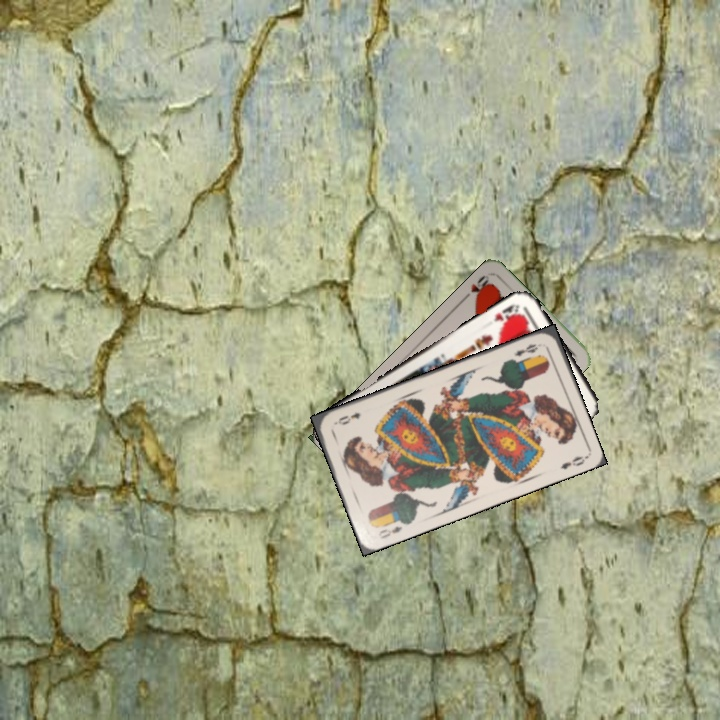EO: (510, 340, 541, 359), (374, 522, 404, 541)
HK: (489, 300, 522, 326)
HO: (459, 271, 493, 303)
